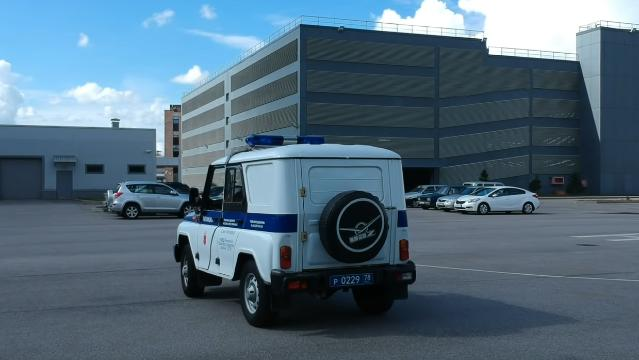non emergency car: (109, 180, 199, 221), (454, 185, 544, 217), (420, 184, 471, 213), (440, 184, 478, 212)
police car: (171, 131, 422, 335)
